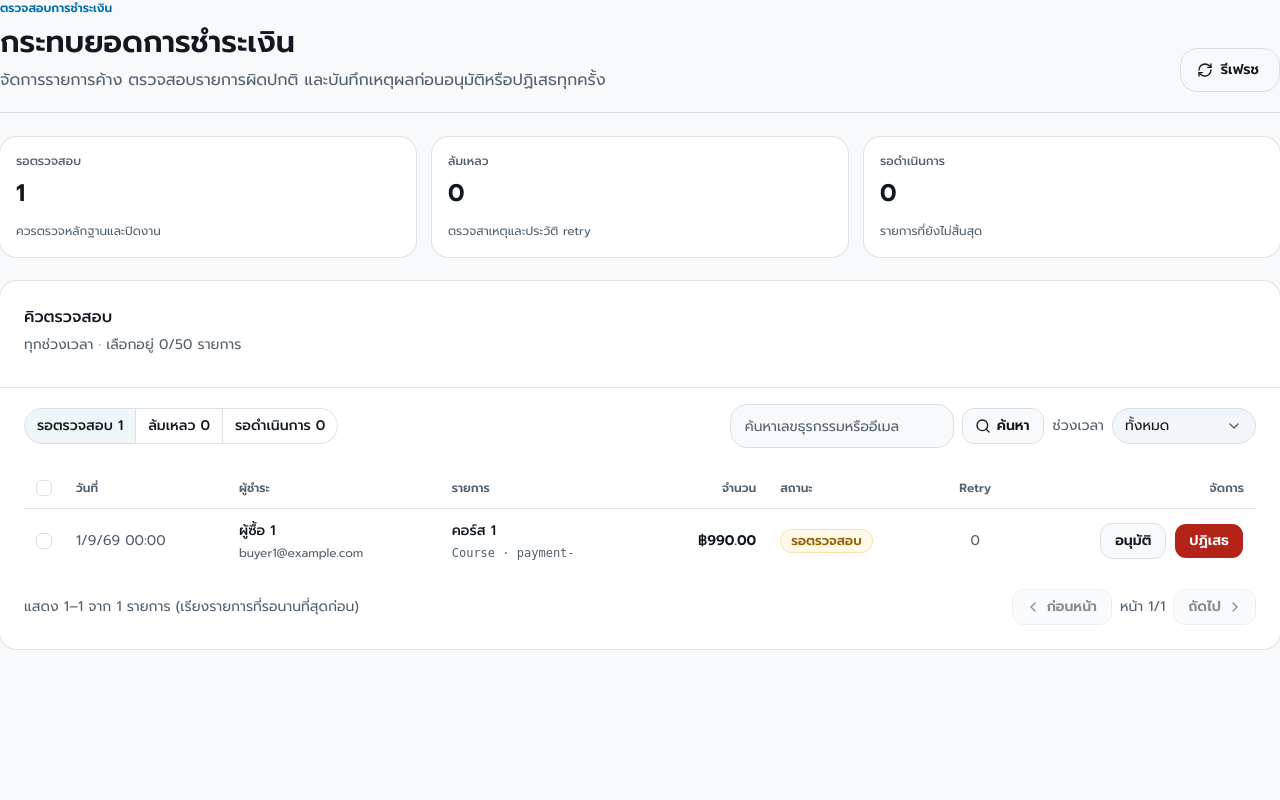
Test case: Admin reconciliation queue states › case details in the decision dialog › shows payer, amount, missing bank reference, entitlement and history before approving
Expected: the text "คอร์ส 1" is shown, x1=452 y1=520 x2=496 y2=540
Click the button "อนุมัติ": (1133, 540) x1=1100 y1=522 x2=1166 y2=558
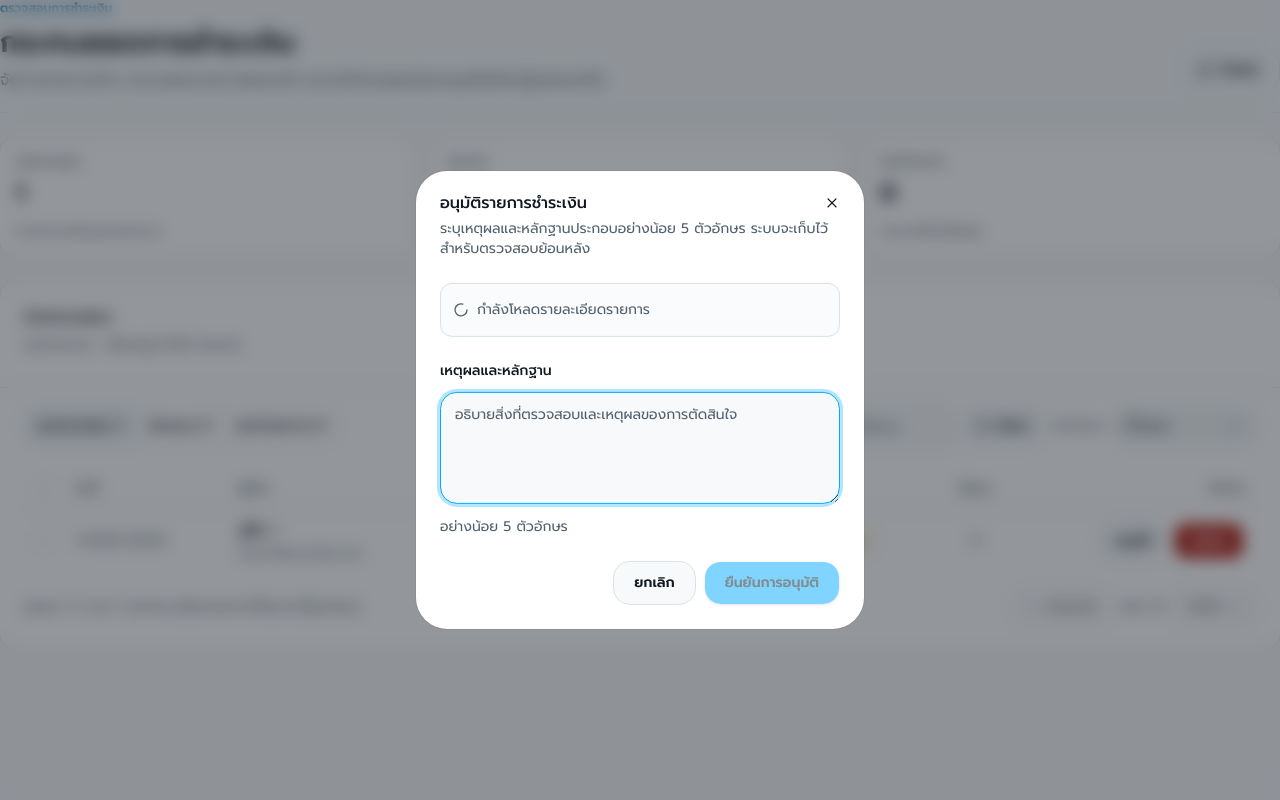
In the text box labelled "เหตุผลและหลักฐาน": (640, 448) x1=440 y1=392 x2=840 y2=504, type "ตรวจรายการเดินบัญชีแล้ว"
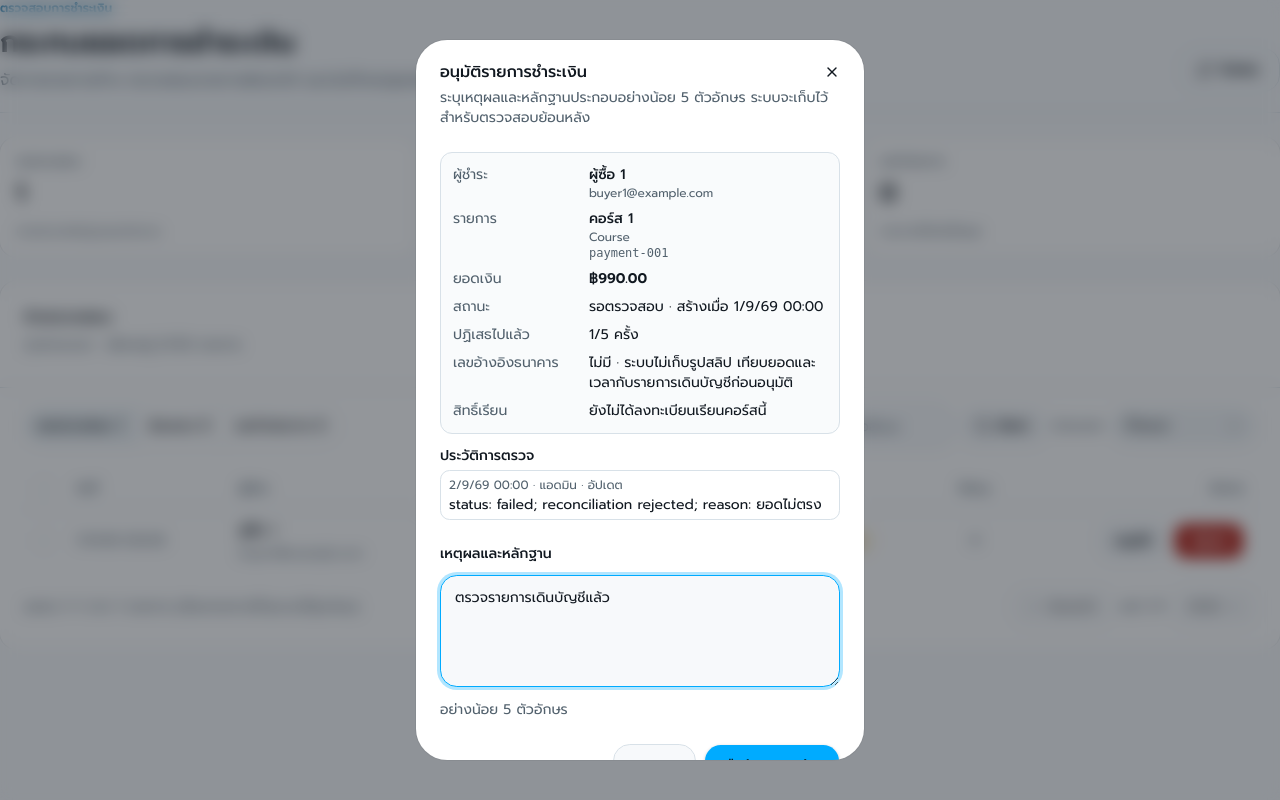
Expected: the text "ระบบไม่เก็บรูปสลิป" is shown, x1=589 y1=352 x2=816 y2=393
Expected: the text "buyer1@example.com" is shown, x1=589 y1=184 x2=713 y2=202
Expected: the text "ยังไม่ได้ลงทะเบียนเรียนคอร์สนี้" is shown, x1=589 y1=400 x2=766 y2=421
